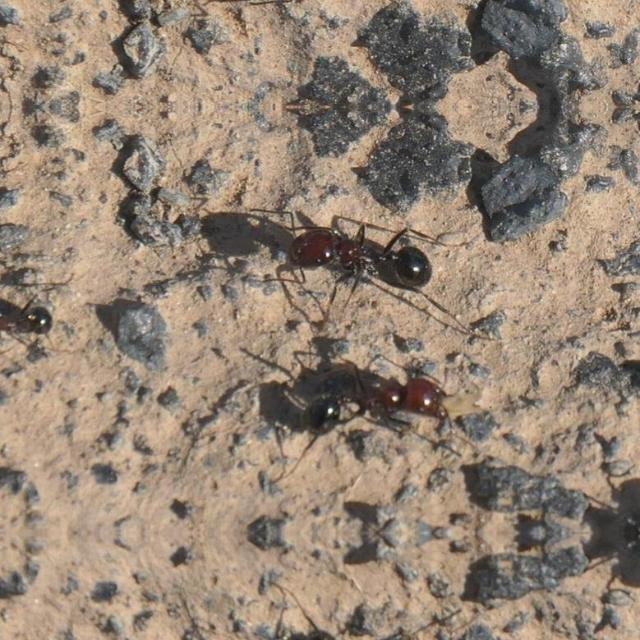Messor: (242, 201, 424, 303), (288, 352, 444, 456), (288, 607, 444, 640)
